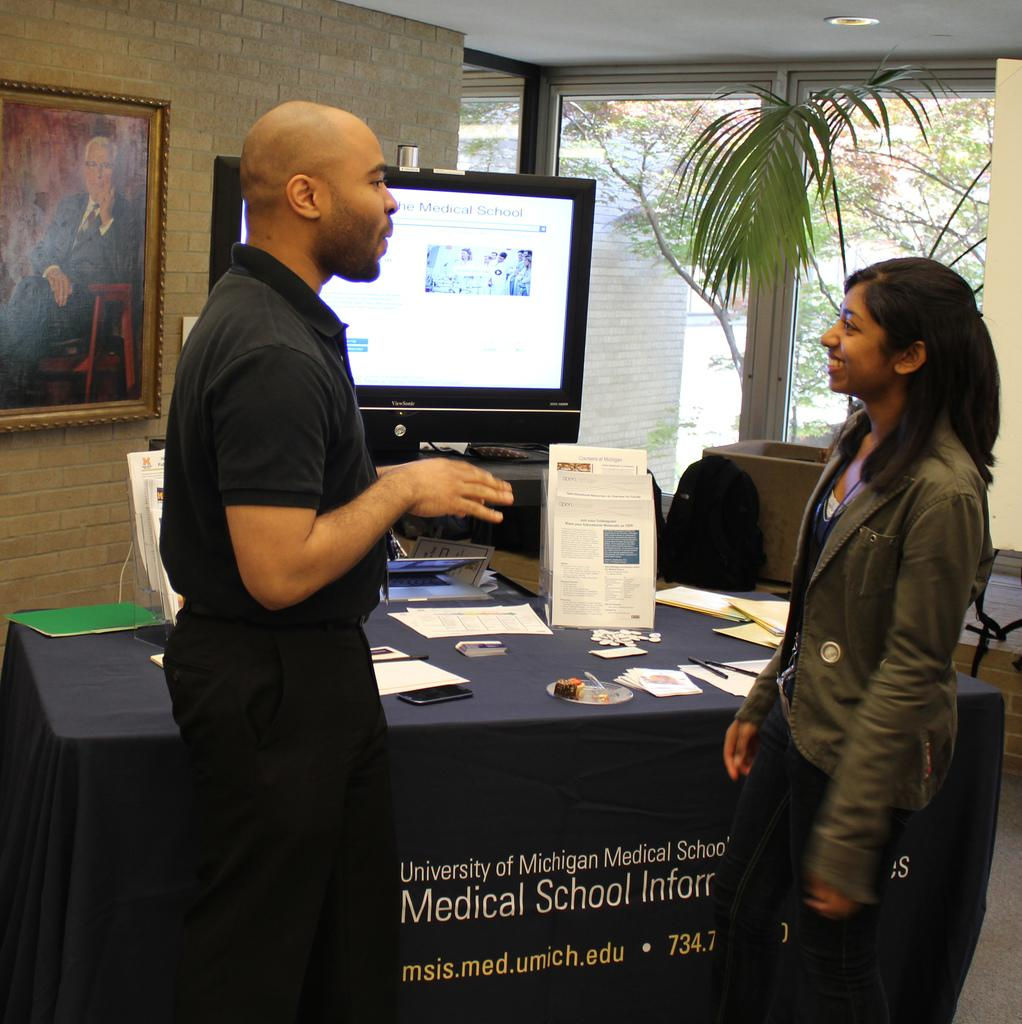Computer-monitor: (205, 148, 599, 460)
